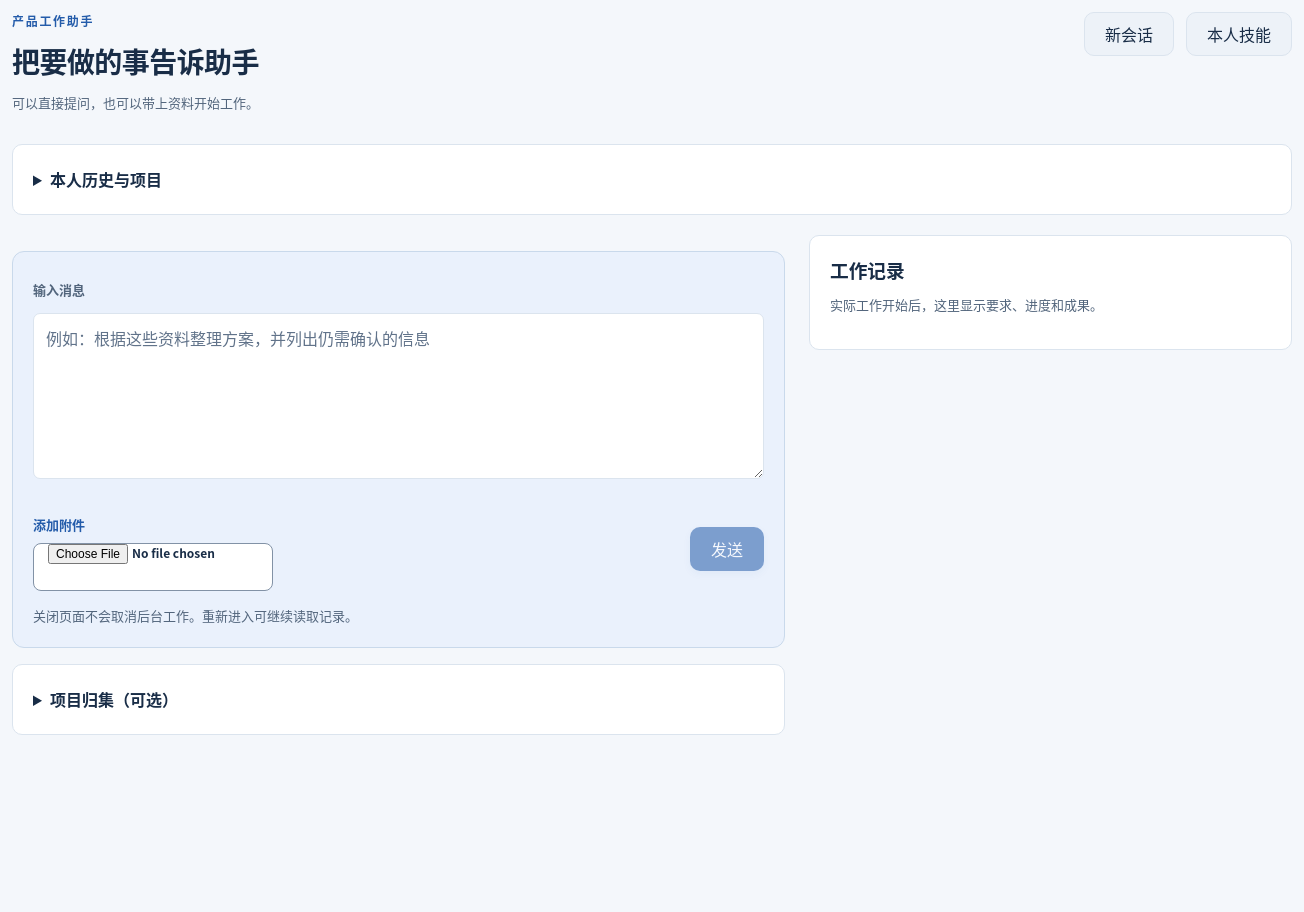
Test case: shows an explicit unconfigured result as not executed
Step 1. Type "检查资料" into the text box labelled "输入消息" → (398, 396), box [33,313,764,479]
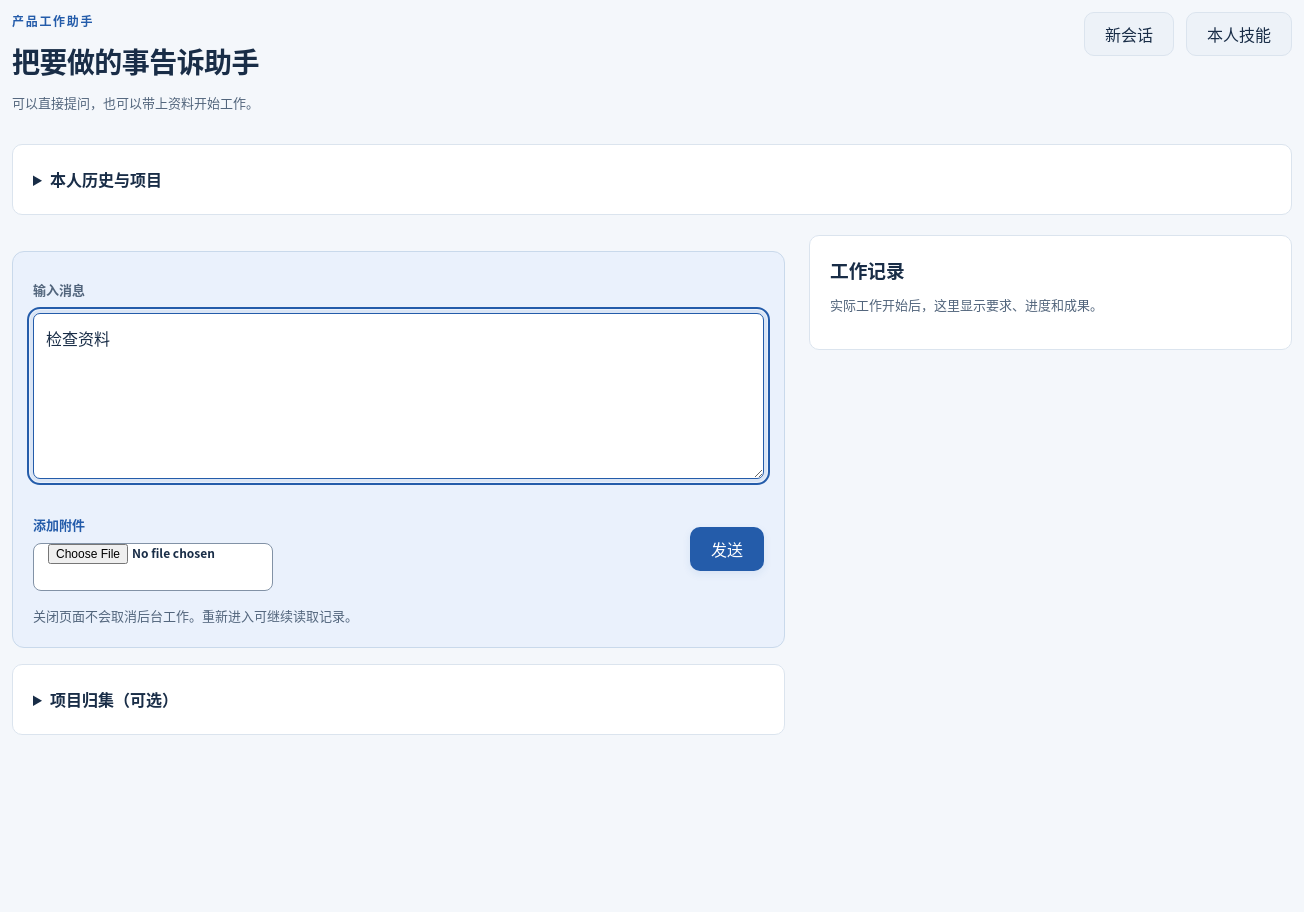
Step 2. Click the button "发送" → (727, 549), box [690,527,764,571]
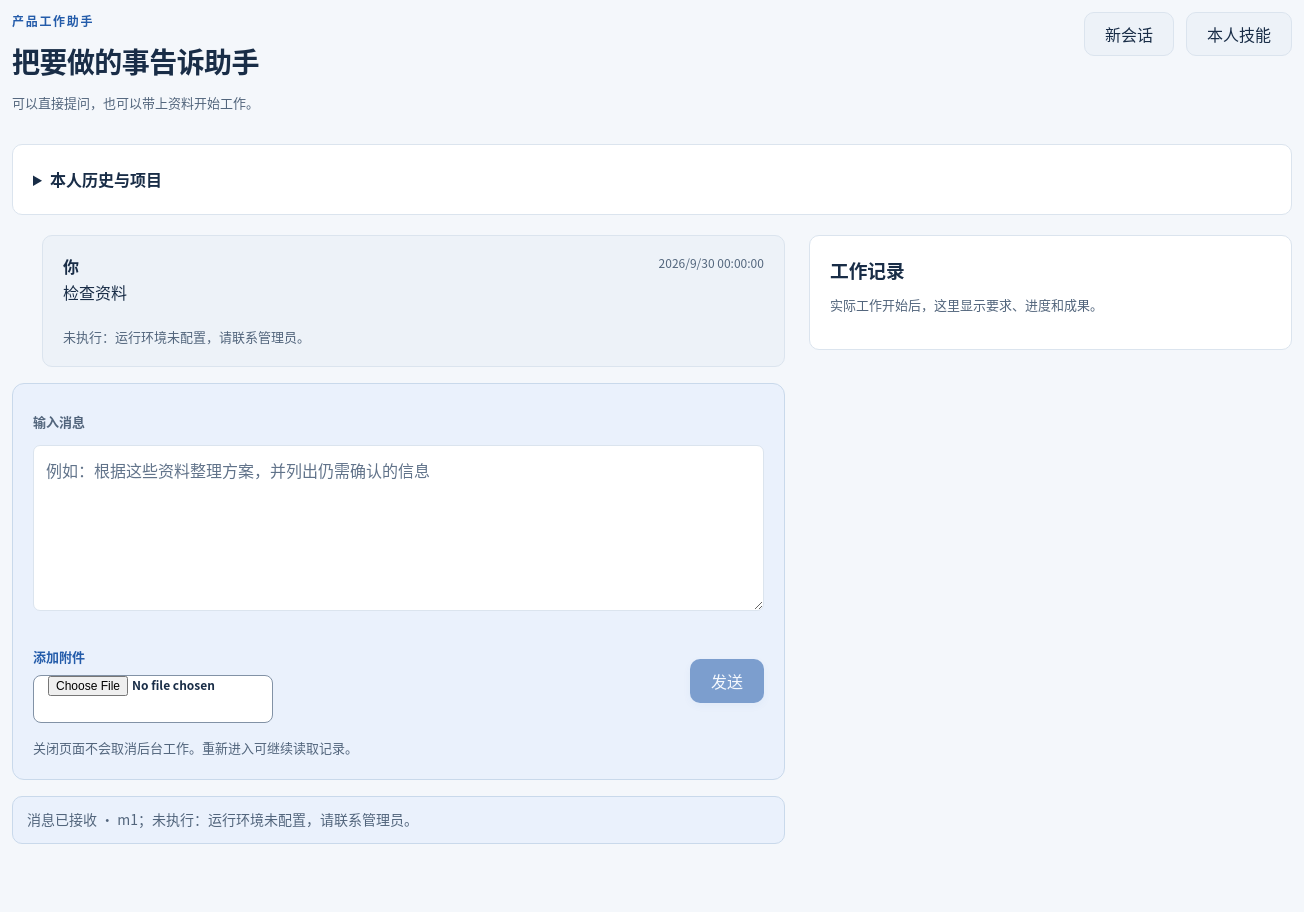
Expected: the text "消息已接收 · m1；未执行：运行环境未配置，请联系管理员。" is shown, [12,796,785,844]
Expected: the text "未执行：运行环境未配置，请联系管理员。" is shown, [63,327,310,346]
